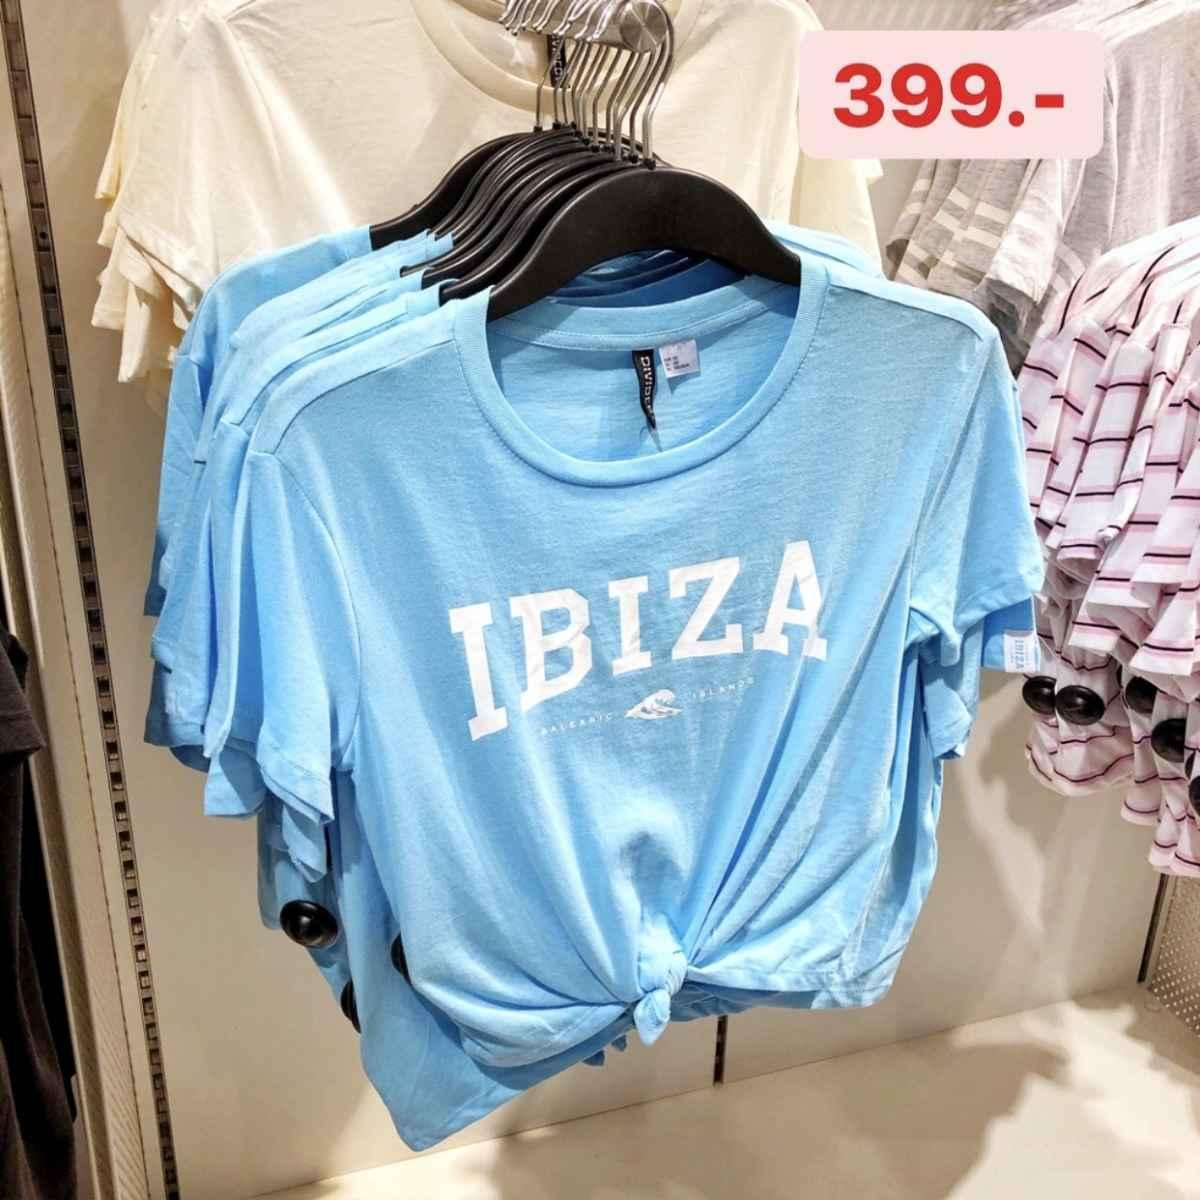Tshirt: (198, 263, 1037, 1041)
